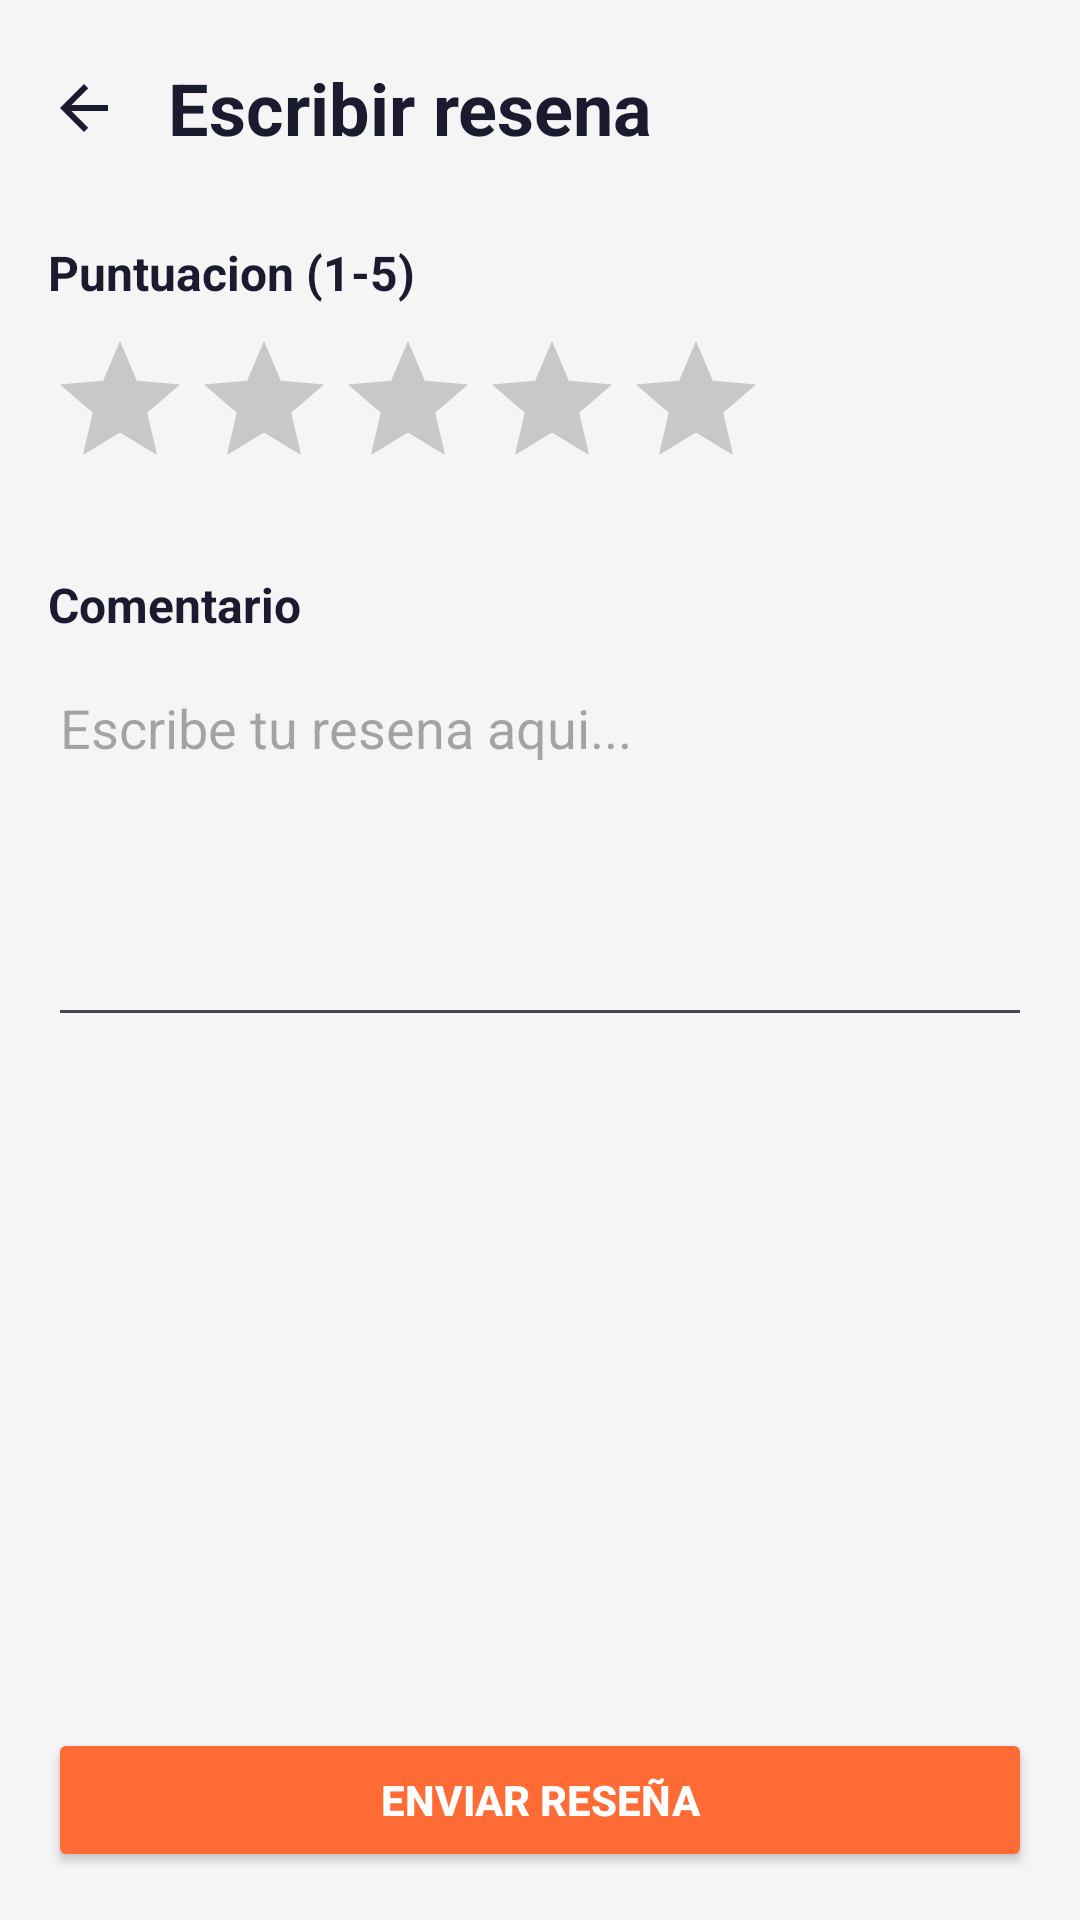

Screen size 1080×1920. Icon name, then its box in pixels as [x1,y1,x2,y2]:
arrow back: [60,84,108,132]
